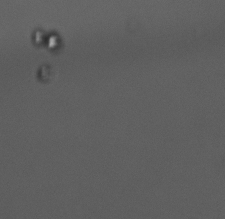Dead Cell: (38, 63, 57, 83)
Living Cell: (45, 30, 63, 51), (32, 28, 45, 44)
